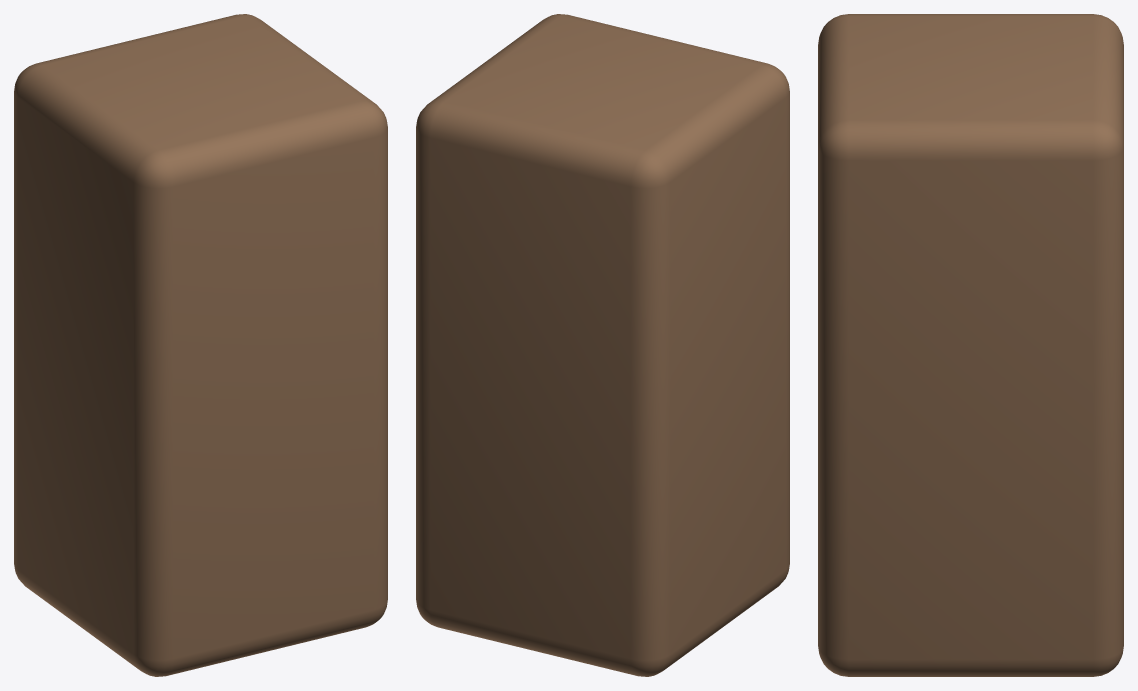
The picture shows the model from 3 angles, left to right: view 1: azimuth 30°, elevation 25°; view 2: azimuth 150°, elevation 25°; view 3: azimuth 270°, elevation 25°; orthographic projection. The views are drawn at different scales.
Parts seen in each view (by area): view 1: block_001; view 2: block_001; view 3: block_001.
Part boxes in pixels (left/top/right/bottom): block_001: left=14, top=14, right=387, bottom=676; block_001: left=416, top=14, right=789, bottom=676; block_001: left=818, top=14, right=1123, bottom=676.
Bounding box in the file's own units: 0.0375 × 0.075 × 0.0375.
